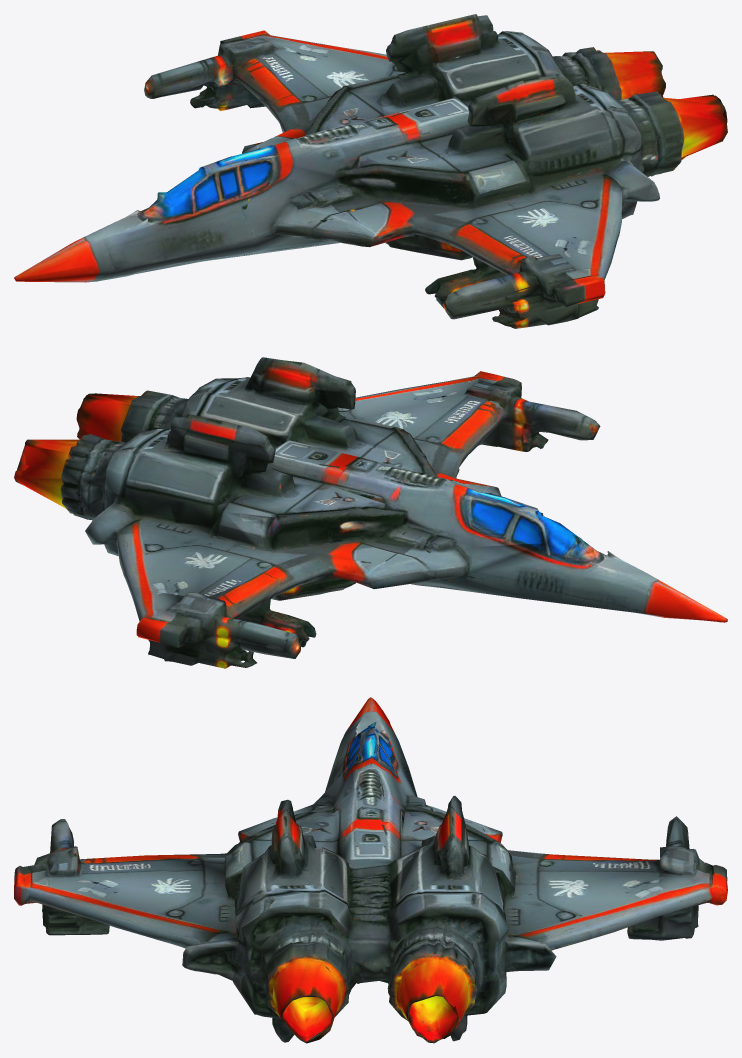
Rendered from straight.glb.
3 renders of one model, top to bottom at view 1: azimuth 30°, elevation 25°; view 2: azimuth 150°, elevation 25°; view 3: azimuth 270°, elevation 25°, orthographic. The views are drawn at different scales.
Size of the model in its own units: 2 by 0.5795 by 1.78.
1 material, 1 textured.
